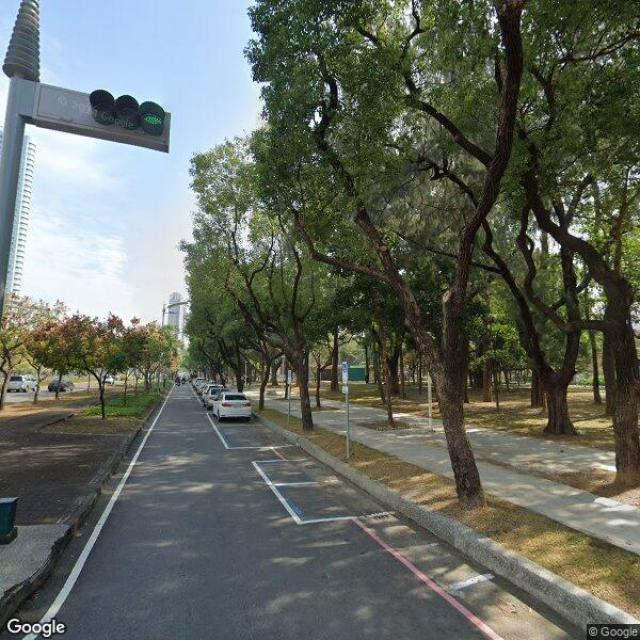Legalparking: (188, 370, 256, 424)
